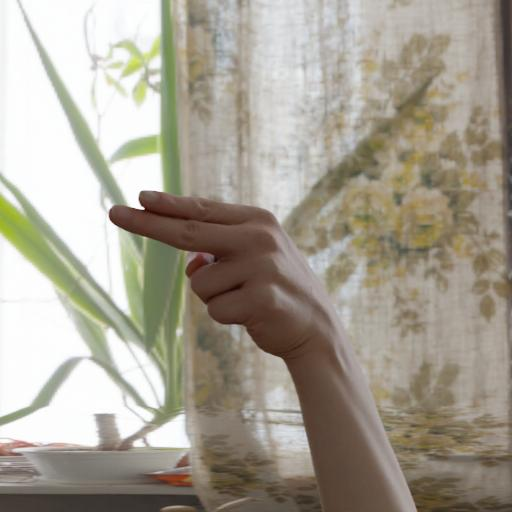H: (93, 160, 384, 452)
